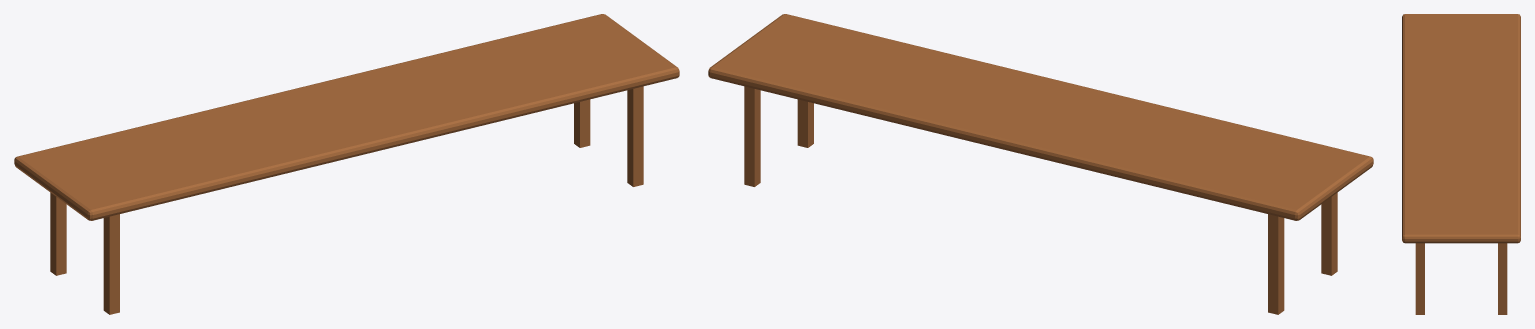
File: int_mejaPanjang.fbx
3 views of the same model, side by side, from view 1: azimuth 30°, elevation 25°; view 2: azimuth 150°, elevation 25°; view 3: azimuth 270°, elevation 25° (orthographic). The views are drawn at different scales.
Visible parts, largest first — view 1: int_mejaPanjang; view 2: int_mejaPanjang; view 3: int_mejaPanjang.
Boxes of the visible parts, bbox=[...] form: int_mejaPanjang: bbox=[14, 14, 679, 314]; int_mejaPanjang: bbox=[708, 14, 1373, 314]; int_mejaPanjang: bbox=[1402, 14, 1520, 314].
Bounding box in the file's own units: 400 × 75 × 90.
1 material, 1 textured.
